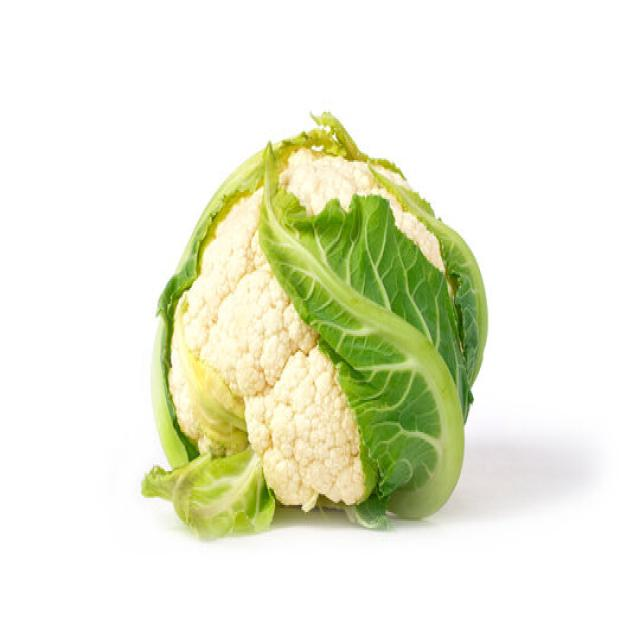Cauliflower: (141, 109, 488, 538)
